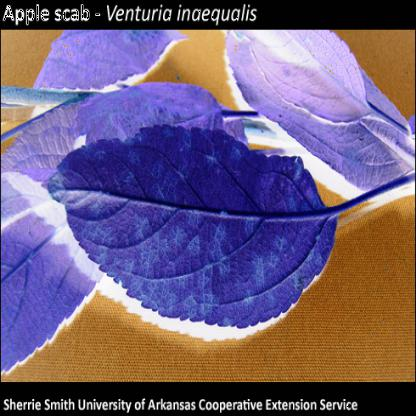Apple Scab Leaf: (51, 117, 347, 343)
